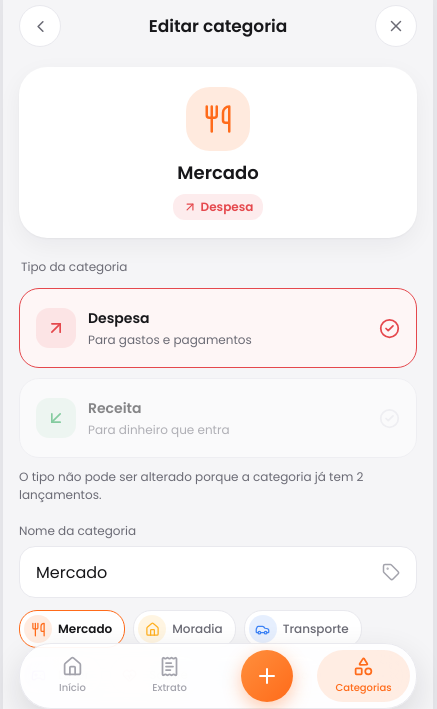
it: category form › locks the other tipo when the category already has transactions
Check: the radio button labelled "Despesa Para gastos e pagamentos" is checked, box [19,288,417,368]
Check: the radio button labelled "Receita Para dinheiro que entra" is disabled, box [19,378,417,458]
Replace the text in the field labelled "Nome da categoria" with "Supermercado" at [204, 572], box [36,560,372,584]
(page scrolled)
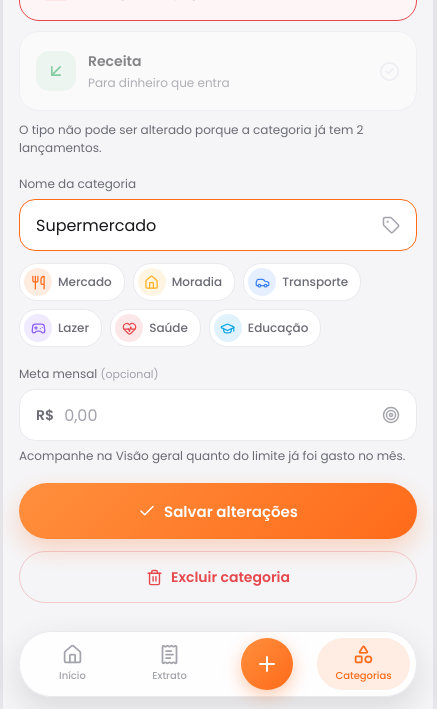
Click the button "Salvar alterações" at [218, 511], box [19,483,417,539]
(page scrolled)
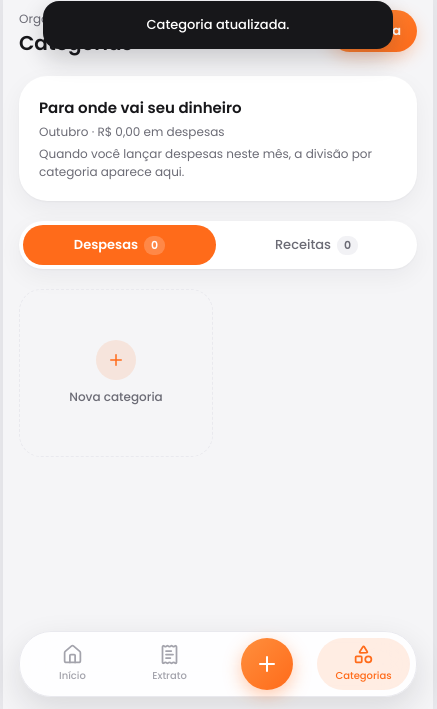
Check: the heading "Categorias" is shown, box [19,30,148,56]
